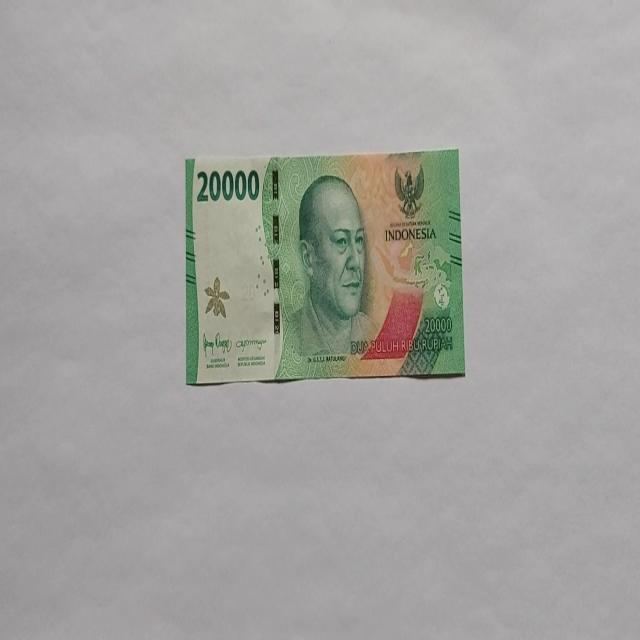dua puluh ribu rupiah: (183, 147, 464, 386), (275, 172, 381, 378)
